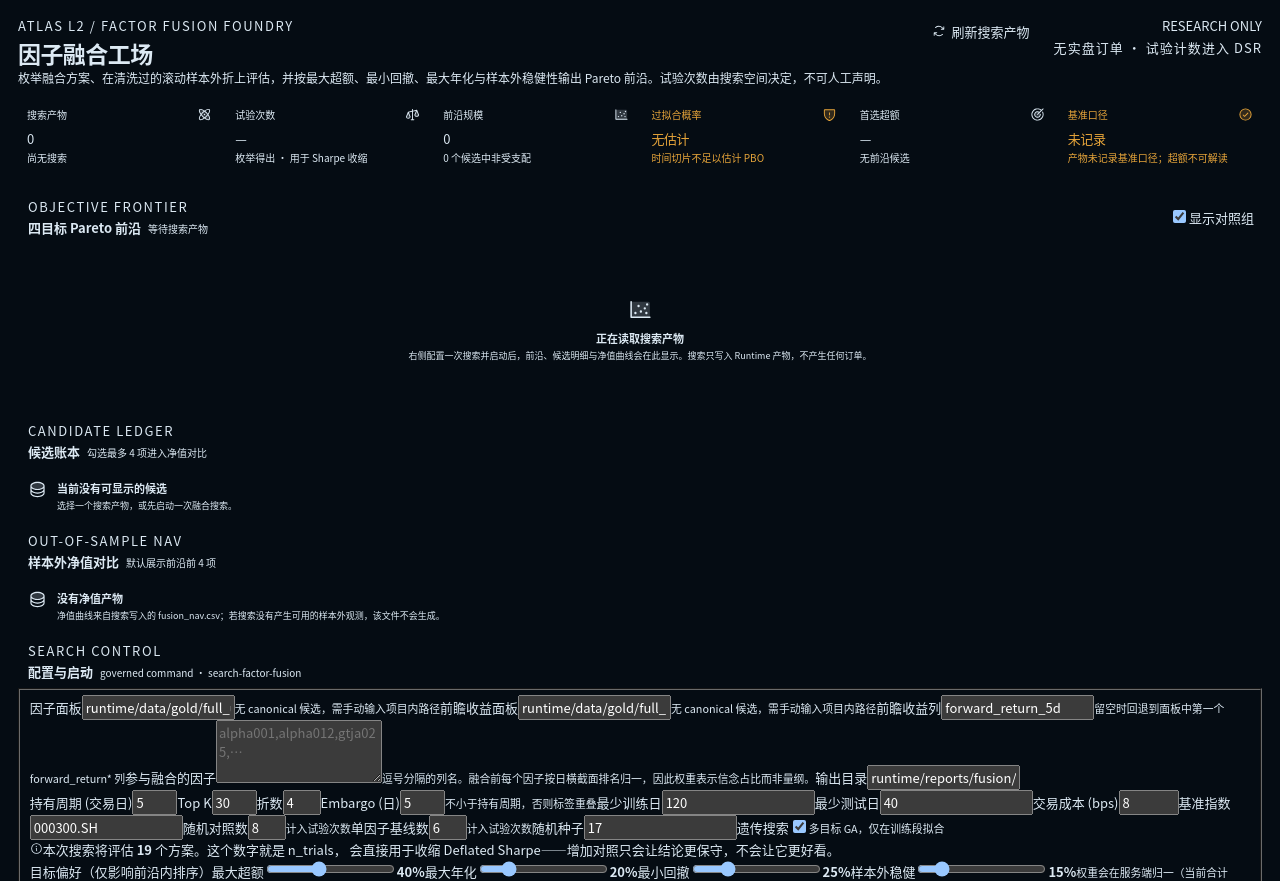
adding controls raises the declared trial count shown before launch
Expected: the heading "因子融合工场" is shown, 18,36 -> 153,70
Expected: the text "19" is shown, 137,840 -> 152,858
Replace the text in the number field labelled "随机对照数 计入试验次数" with "12": (267, 827) 248,814 -> 286,840
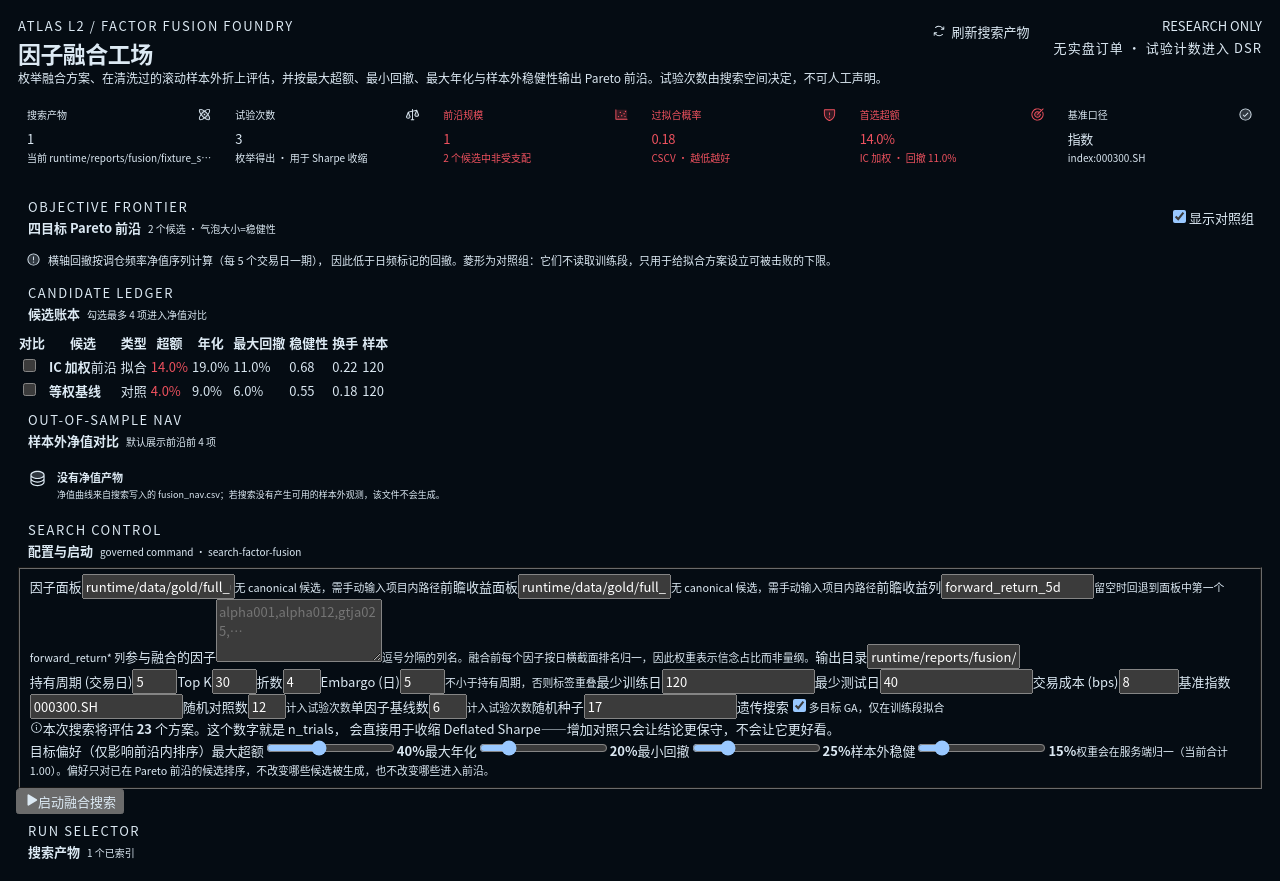
Result: the text "23" is shown at 137,718 -> 152,738
